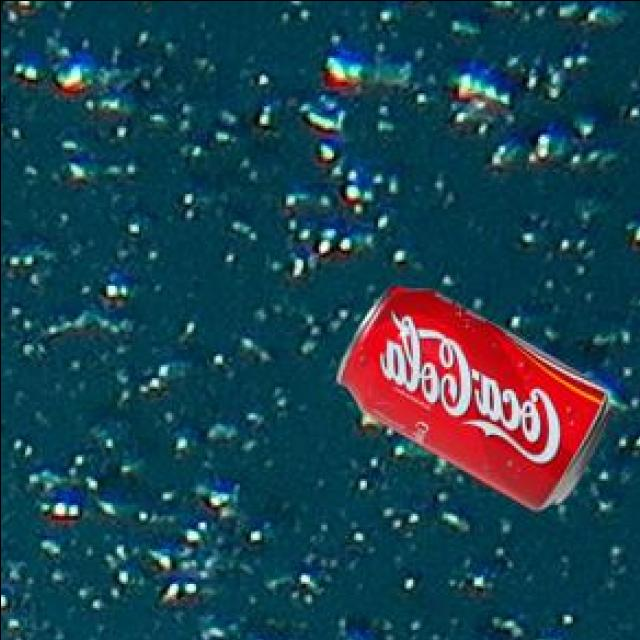logam: (334, 286, 606, 512)
